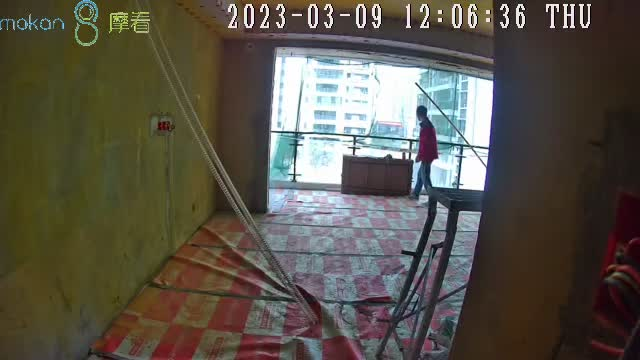people: (409, 105, 440, 200)
window: (274, 54, 492, 199)
